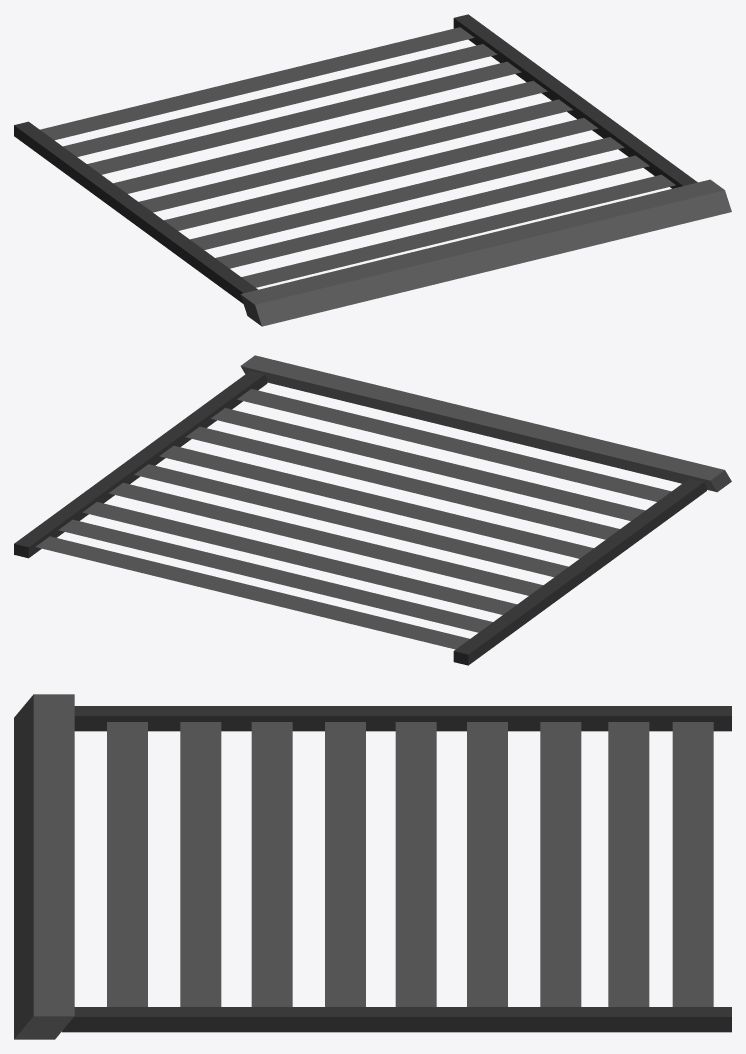
File: display_acc_stray_1.fbx
3 views of the same model, one above another, from view 1: azimuth 30°, elevation 25°; view 2: azimuth 150°, elevation 25°; view 3: azimuth 270°, elevation 25° (orthographic). The views are drawn at different scales.
Visible parts, largest first — view 1: display_acc_stray_1; view 2: display_acc_stray_1; view 3: display_acc_stray_1.
Boxes of the visible parts, x1,y1,x2,y2 form: display_acc_stray_1: (14, 14, 731, 326); display_acc_stray_1: (14, 355, 731, 665); display_acc_stray_1: (14, 694, 731, 1039).
Size of the model in its own units: 70.68 by 2.4 by 66.64.
